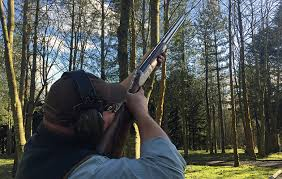Gun: (116, 15, 181, 117)
